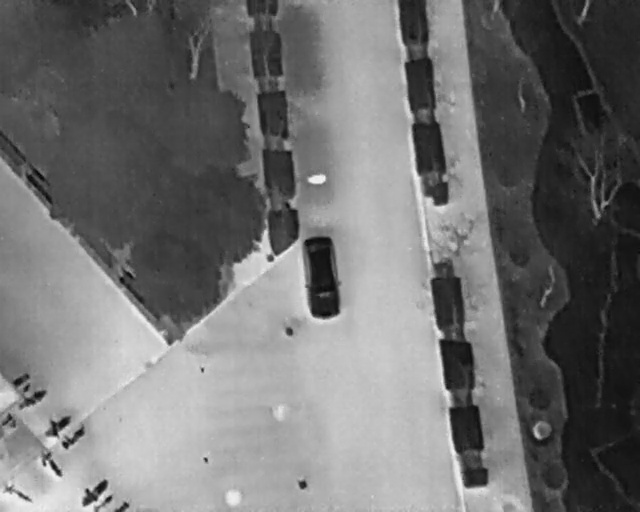Bicycle: (73, 473, 113, 510), (38, 408, 77, 442), (36, 447, 69, 483), (14, 384, 51, 413), (57, 423, 91, 454), (0, 479, 37, 506), (8, 369, 33, 390), (93, 494, 113, 511), (113, 500, 130, 511)
Car: (294, 231, 347, 323)
